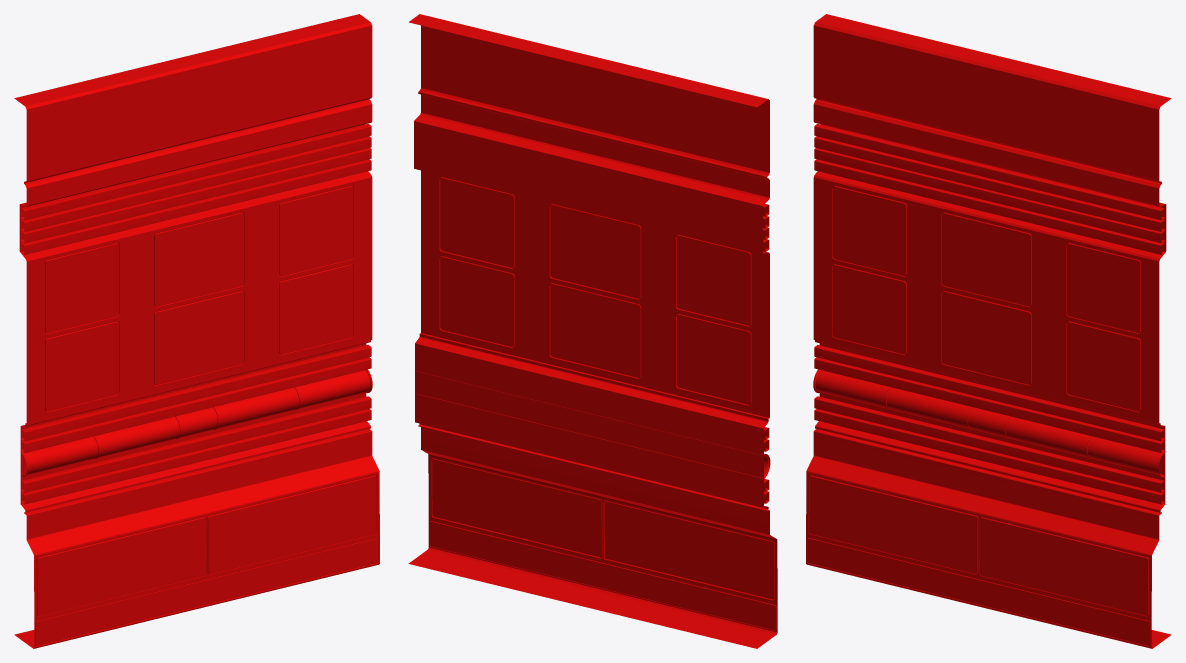
File: Wall_19.fbx
3 renders of one model, left to right at view 1: azimuth 30°, elevation 25°; view 2: azimuth 150°, elevation 25°; view 3: azimuth 330°, elevation 25°, orthographic.
Visible parts, largest first — view 1: polySurface2652; view 2: polySurface2652; view 3: polySurface2652.
Boxes of the visible parts, x1=… form: polySurface2652: x1=14, y1=14, x2=379, y2=648; polySurface2652: x1=408, y1=14, x2=777, y2=648; polySurface2652: x1=806, y1=14, x2=1171, y2=648.
Bounding box in the file's own units: 509 × 751 × 52.23.
